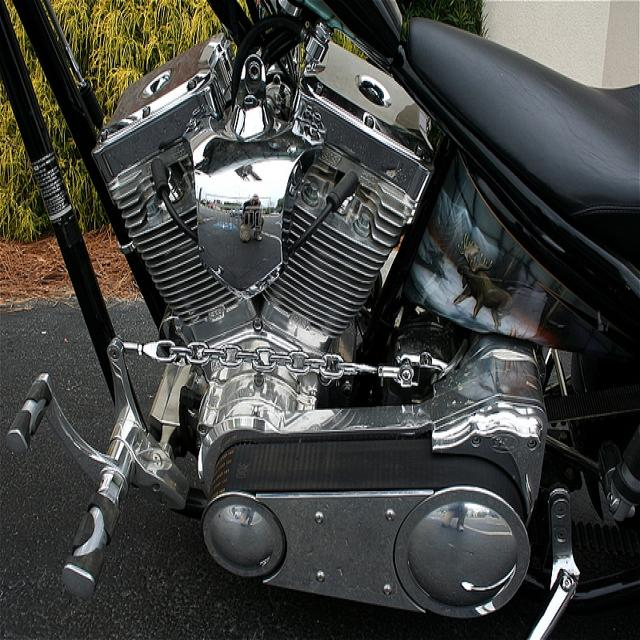motor: (0, 2, 637, 631)
